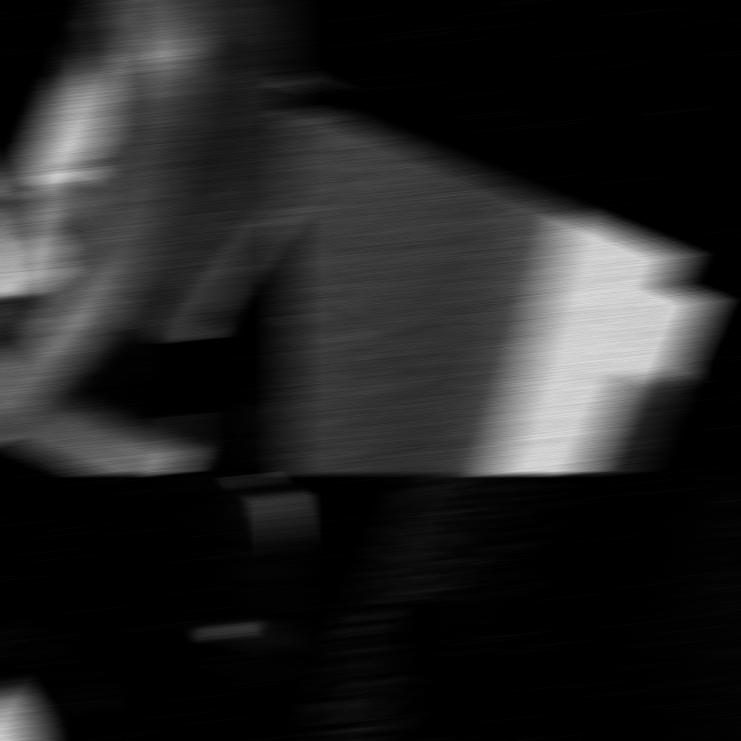Airbag: (280, 50, 724, 474), (0, 0, 296, 473), (280, 474, 741, 740), (0, 474, 296, 740)
